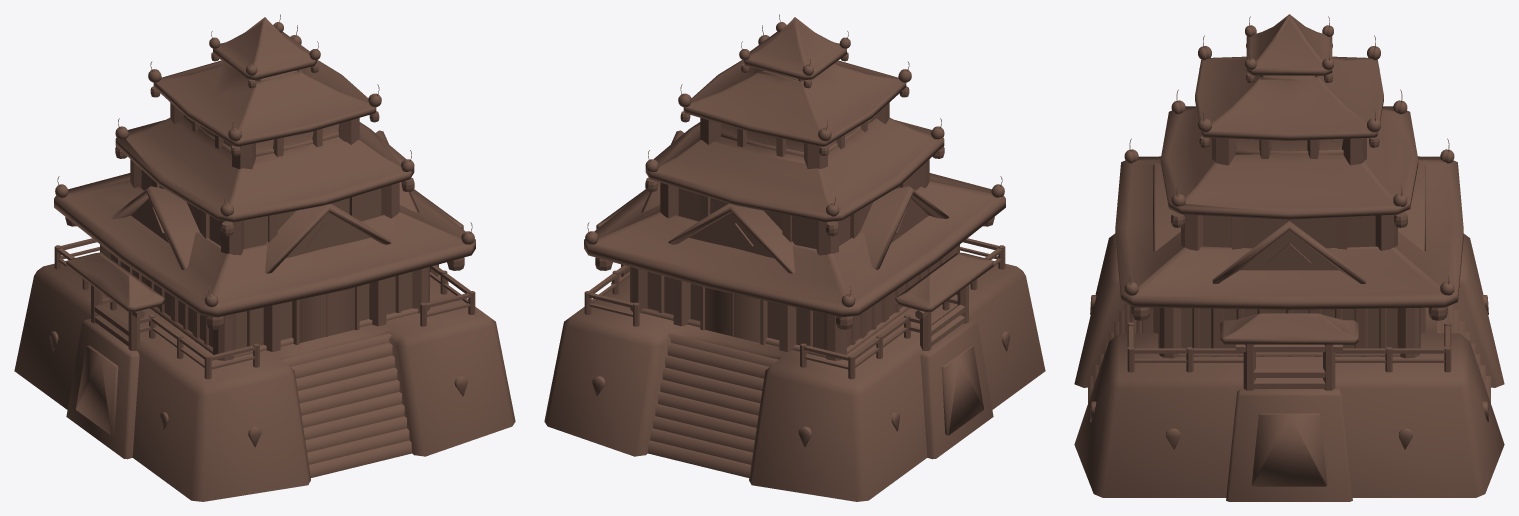
The model's file is castle_marzi.fbx.
The picture shows the model from 3 angles, left to right: view 1: azimuth 30°, elevation 25°; view 2: azimuth 150°, elevation 25°; view 3: azimuth 270°, elevation 25°; orthographic projection. The views are drawn at different scales.
Parts seen in each view (by area): view 1: castle_marzi; view 2: castle_marzi; view 3: castle_marzi.
Boxes of the visible parts, x1=… form: castle_marzi: x1=14, y1=14, x2=515, y2=501; castle_marzi: x1=544, y1=14, x2=1045, y2=501; castle_marzi: x1=1074, y1=14, x2=1504, y2=501.
Bounding box in the file's own units: 5044 × 5341 × 5198.
